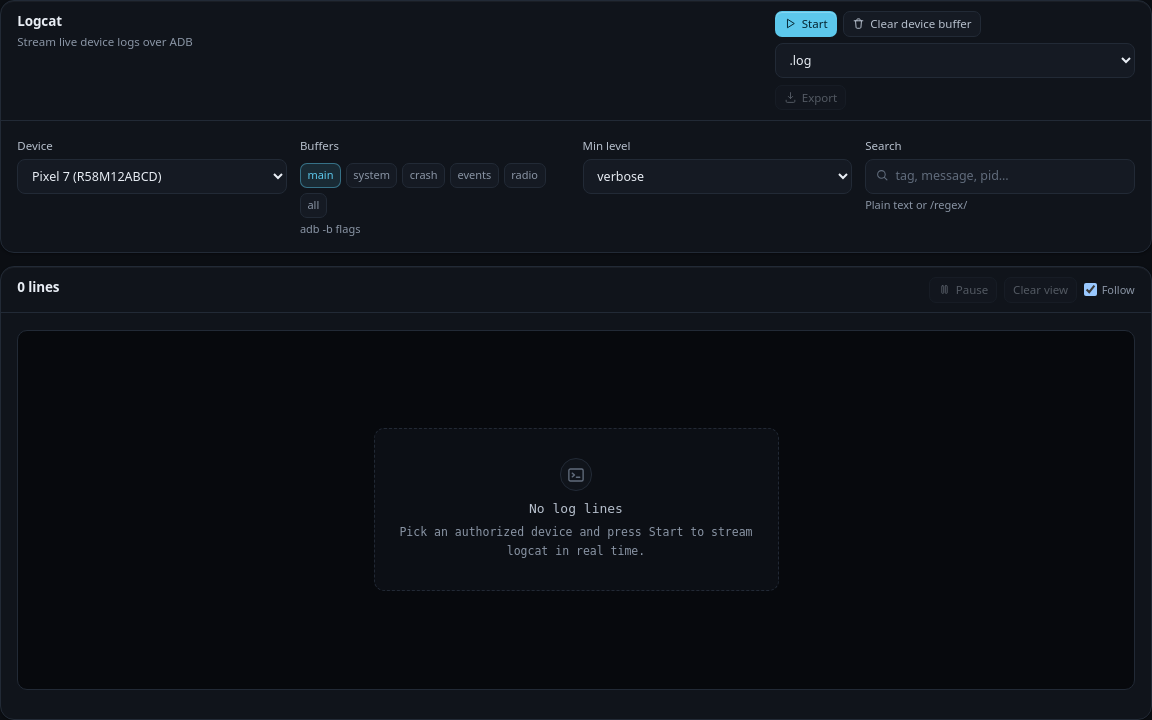
LogcatView export › defaults to .log and honors a format switch to .json
Click the button "Start". click: (806, 24)
box: [775,11,837,37]
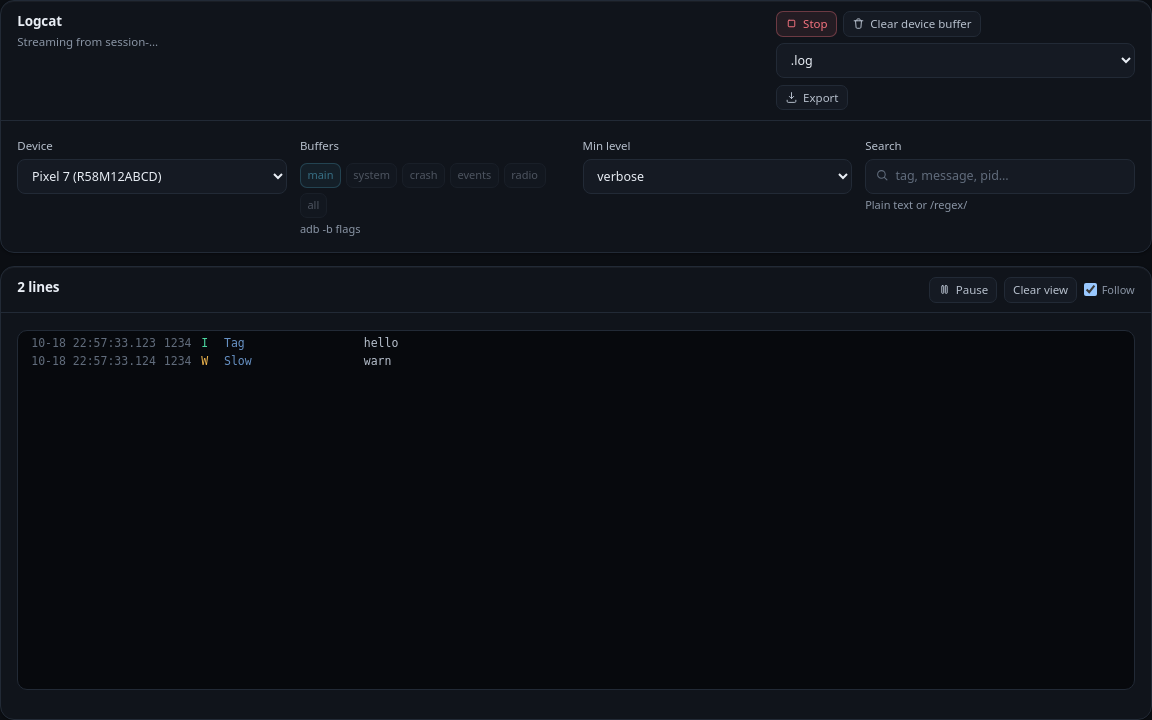
Expected: the text "hello" is shown, [364,335,398,351]
Select ".json" in the dropdown named "Export format". click: (955, 60)
box: [776,43,1135,78]
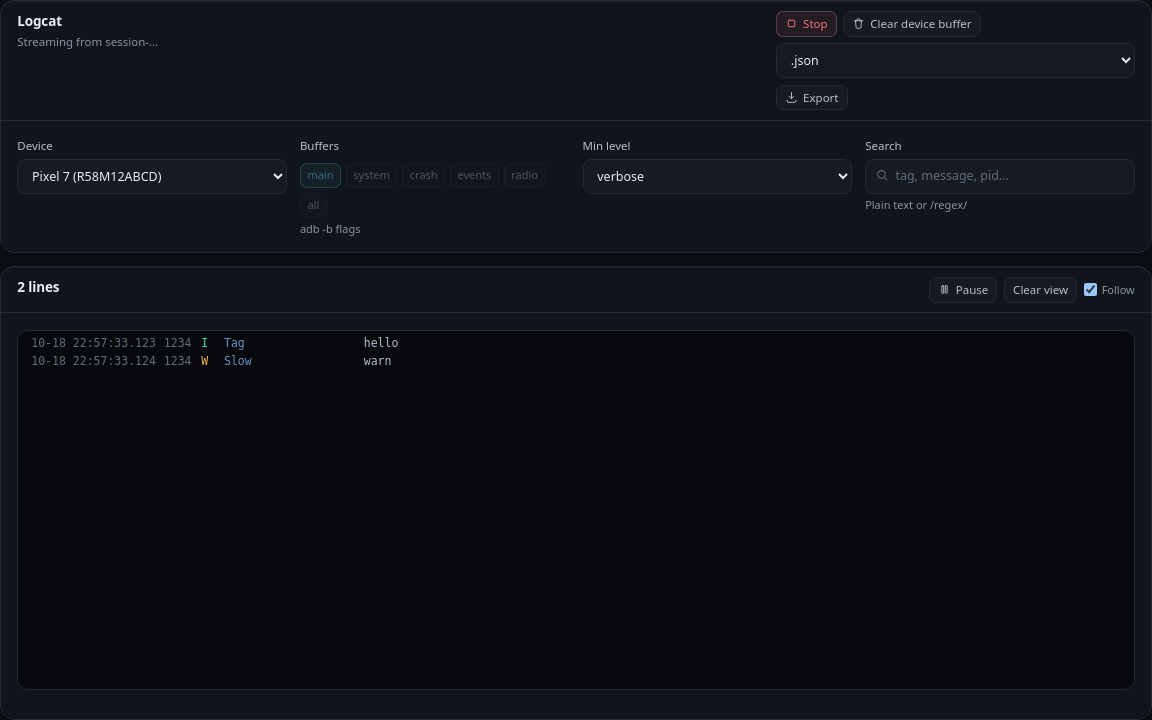
Click the button "Export". click: (812, 97)
box: [776,84,848,110]
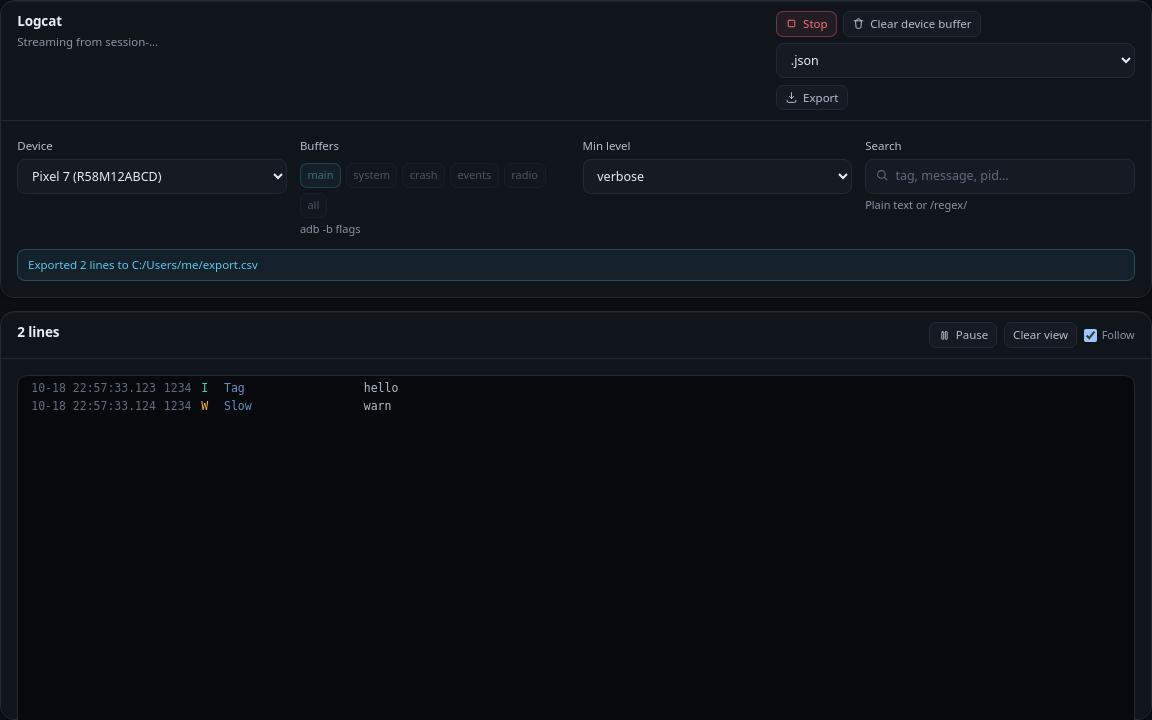
Expected: the text "Exported 2 lines to C:/Users/me/export.csv" is shown, [17,249,1135,281]
